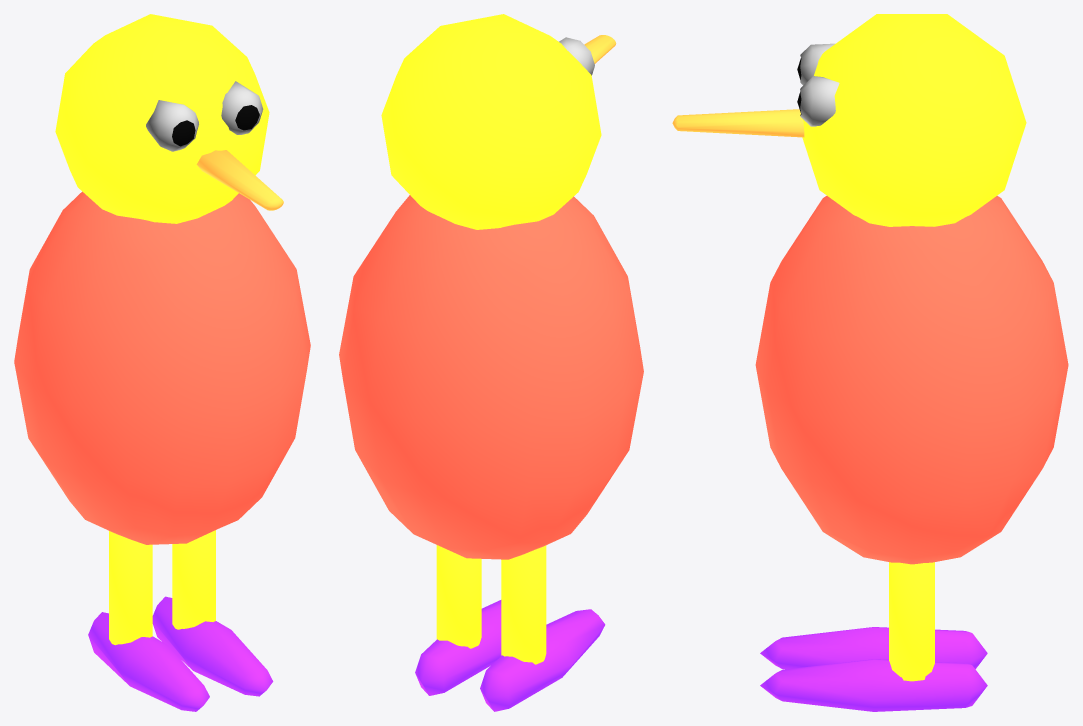
Rendered from testchar2.fbx.
3 views of the same model, side by side, from view 1: azimuth 30°, elevation 25°; view 2: azimuth 150°, elevation 25°; view 3: azimuth 270°, elevation 25° (orthographic). The views are drawn at different scales.
Parts seen in each view (by area): view 1: Cube, Icosphere, Cube.002, Cube.001, Cylinder, Cylinder.001, Icosphere.001, Cylinder.002; view 2: Cube, Icosphere, Cube.002, Cylinder, Cylinder.001, Cube.001, Icosphere.001, Cylinder.002; view 3: Cube, Icosphere, Cube.001, Cube.002, Cylinder.001, Cylinder.002, Icosphere.001.
Boxes of the visible parts, x1,y1,x2,y2 form: Cube: (14, 191, 310, 544); Icosphere: (55, 14, 269, 223); Cube.002: (88, 612, 209, 711); Cube.001: (152, 596, 273, 696); Cylinder: (109, 531, 152, 645); Cylinder.001: (172, 530, 215, 629); Icosphere.001: (146, 81, 263, 151); Cylinder.002: (196, 150, 283, 210); Cube: (339, 195, 643, 559); Icosphere: (381, 14, 601, 229); Cube.002: (480, 609, 605, 711); Cylinder: (501, 545, 546, 664); Cylinder.001: (436, 545, 481, 648); Cube.001: (415, 600, 501, 695); Icosphere.001: (559, 37, 594, 75); Cylinder.002: (584, 35, 616, 63); Cube: (755, 195, 1068, 564); Icosphere: (802, 14, 1026, 226); Cube.001: (760, 659, 987, 711); Cube.002: (760, 627, 987, 669); Cylinder.001: (889, 562, 934, 681); Cylinder.002: (672, 109, 804, 137); Icosphere.001: (797, 43, 839, 126).
Bounding box in the file's own units: 410 × 977 × 519.
